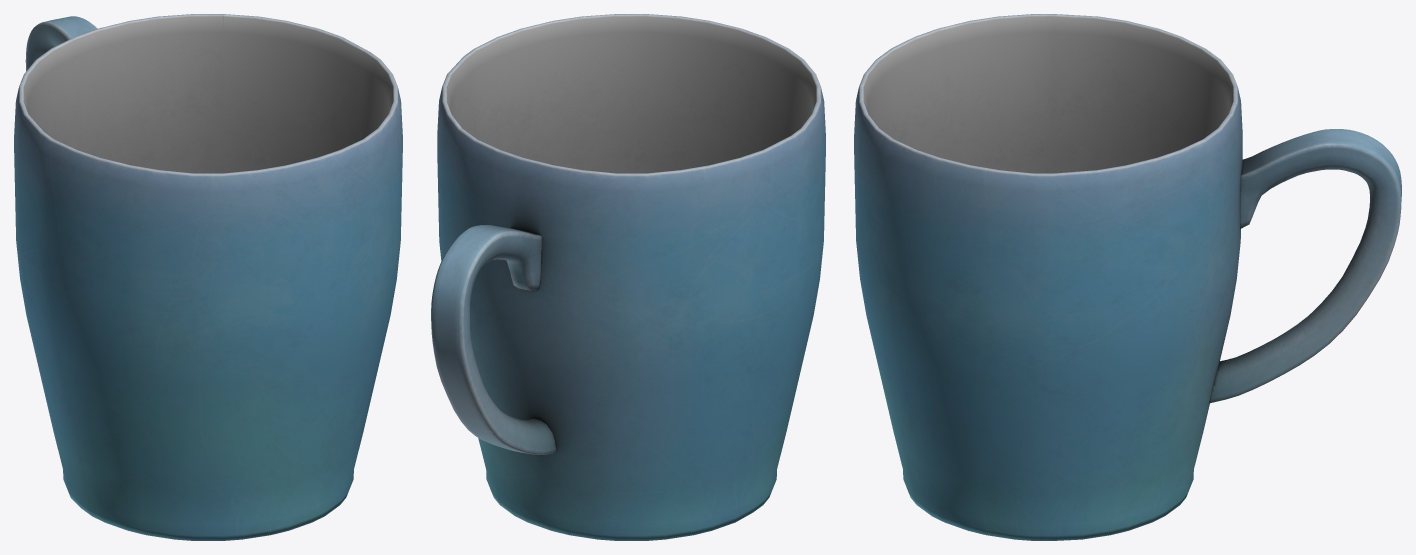
The model's file is cup.fbx.
3 renders of one model, left to right at view 1: azimuth 30°, elevation 25°; view 2: azimuth 150°, elevation 25°; view 3: azimuth 270°, elevation 25°, orthographic.
Visible parts, largest first — view 1: defaultMaterial; view 2: defaultMaterial; view 3: defaultMaterial.
Boxes of the visible parts, x1,y1,x2,y2 form: defaultMaterial: [14, 14, 402, 540]; defaultMaterial: [431, 14, 825, 540]; defaultMaterial: [854, 14, 1401, 540].
Bounding box in the file's own units: 41.01 × 44.77 × 57.34.
Materials: 1 (1 with a texture image).
